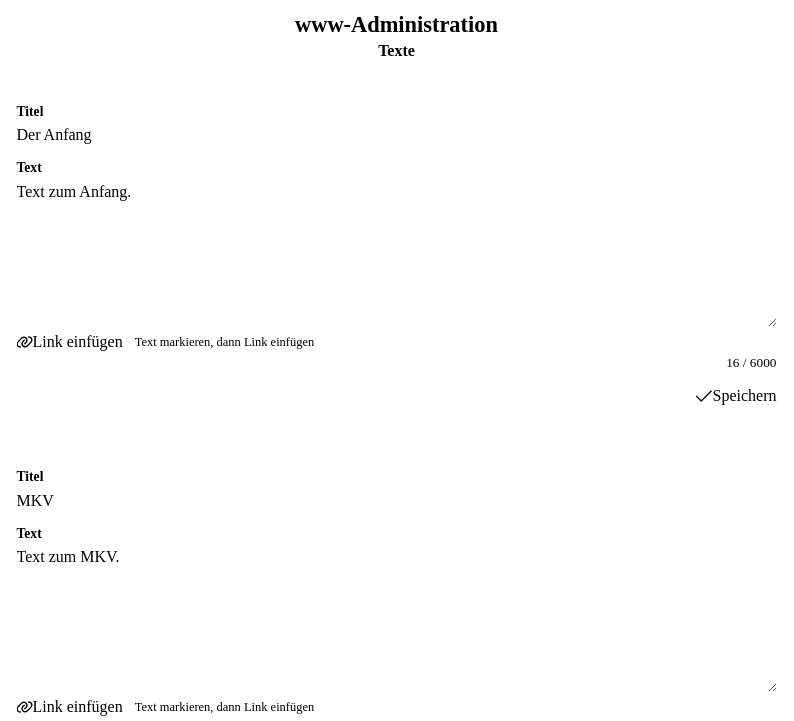
Test case: TextsAdminView › shows the saved title in the success toast and replaces the form with the answer
Click the button "Speichern": (736, 396) [696,387,776,405]
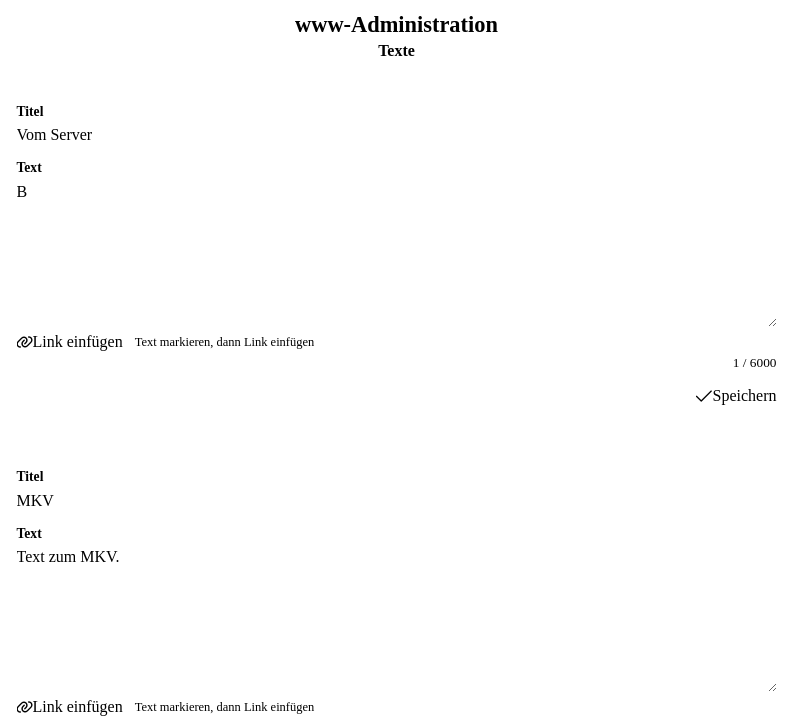
Expected: the 1st field labelled "Titel" holds "Vom Server", [16,126,776,144]
